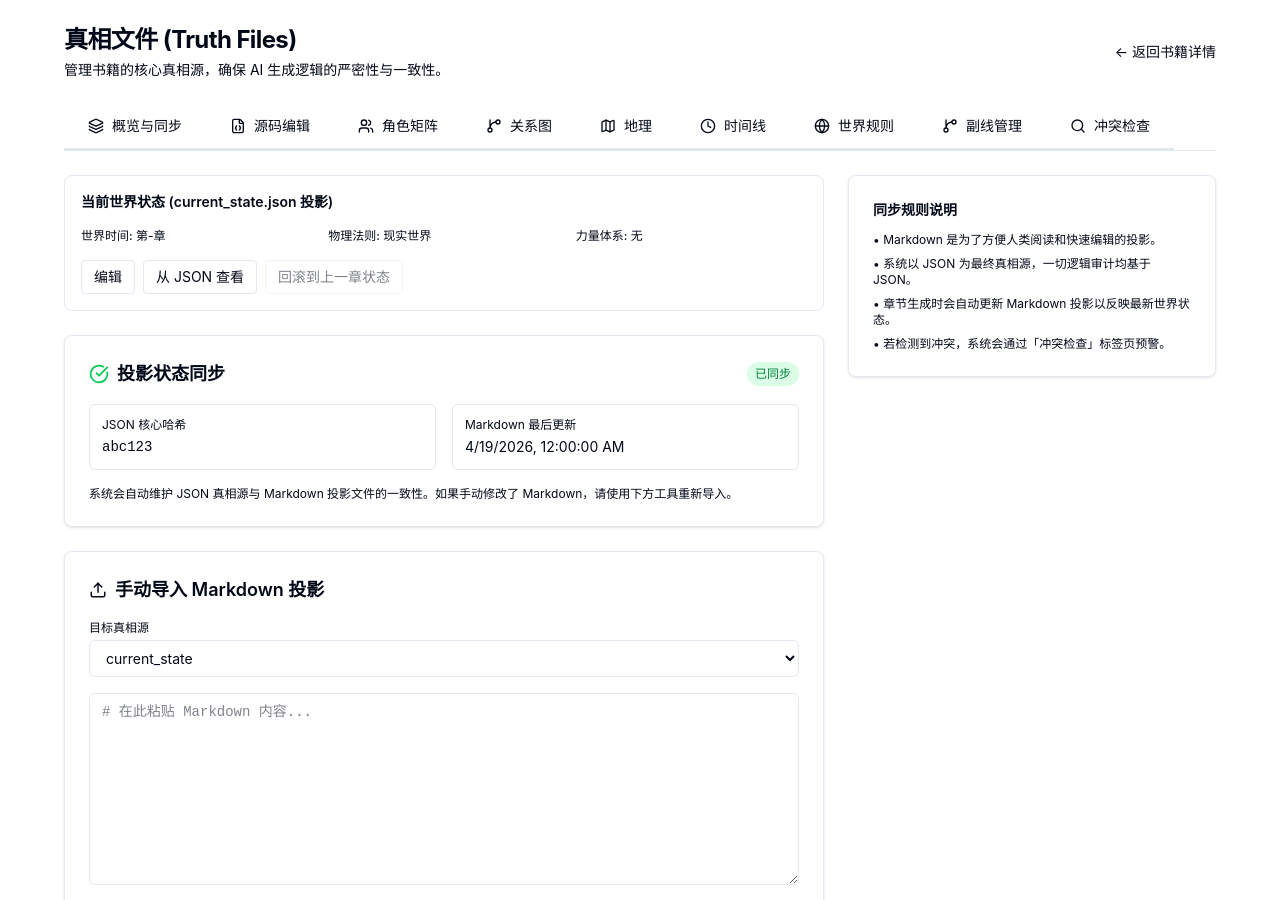
TruthFiles Page › opens file viewer when clicking a file
The width and height of the screenshot is (1280, 900).
Check: the heading "投影状态同步" is shown, box [117,360,225,388]
Note: Switch to JSON source editing tab to see file list
Click the button "源码编辑".
click(270, 127)  # box [206,104,334,150]
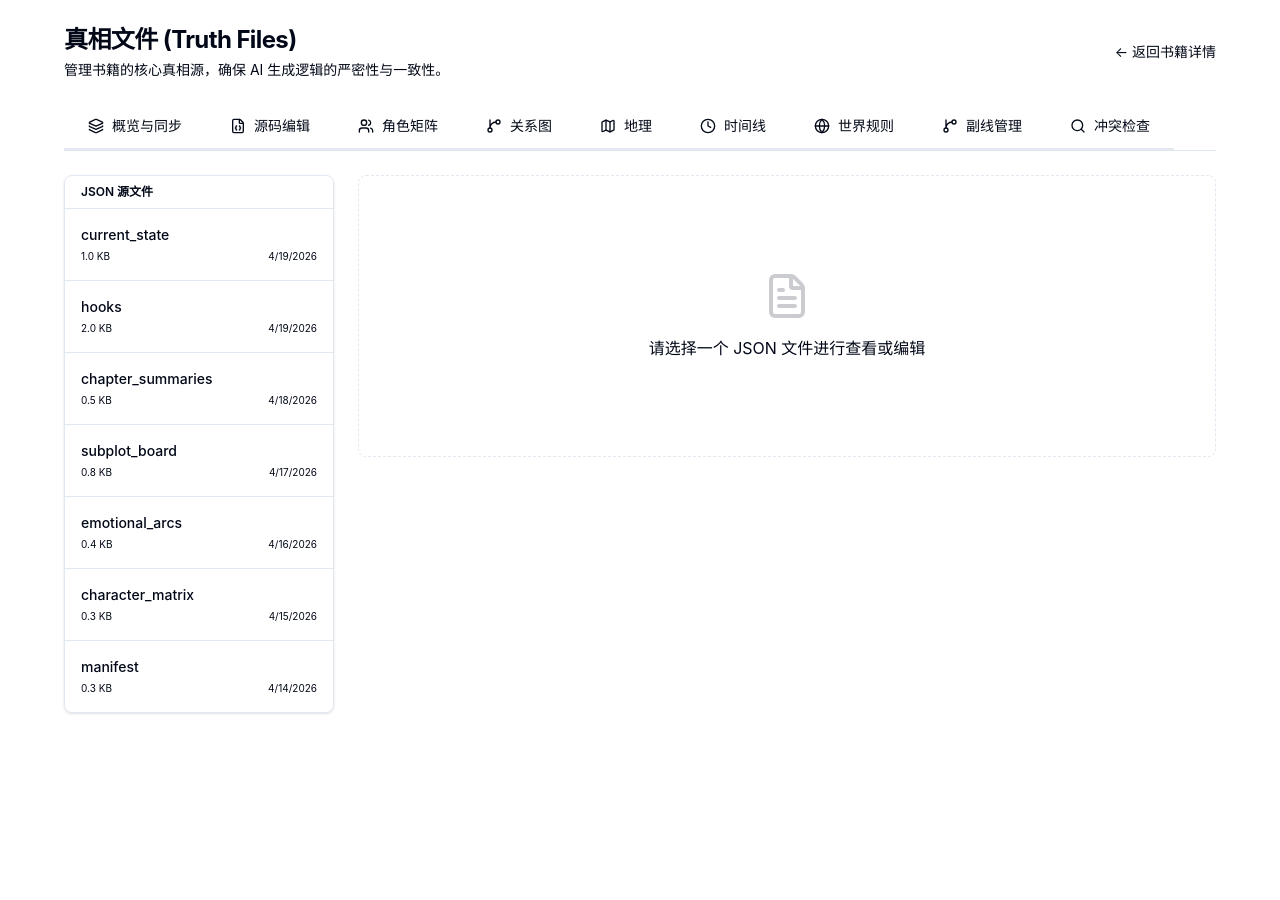
Click the button "current_state 1.0 KB 4/19/2026".
click(125, 234)  # box [65,209,333,281]
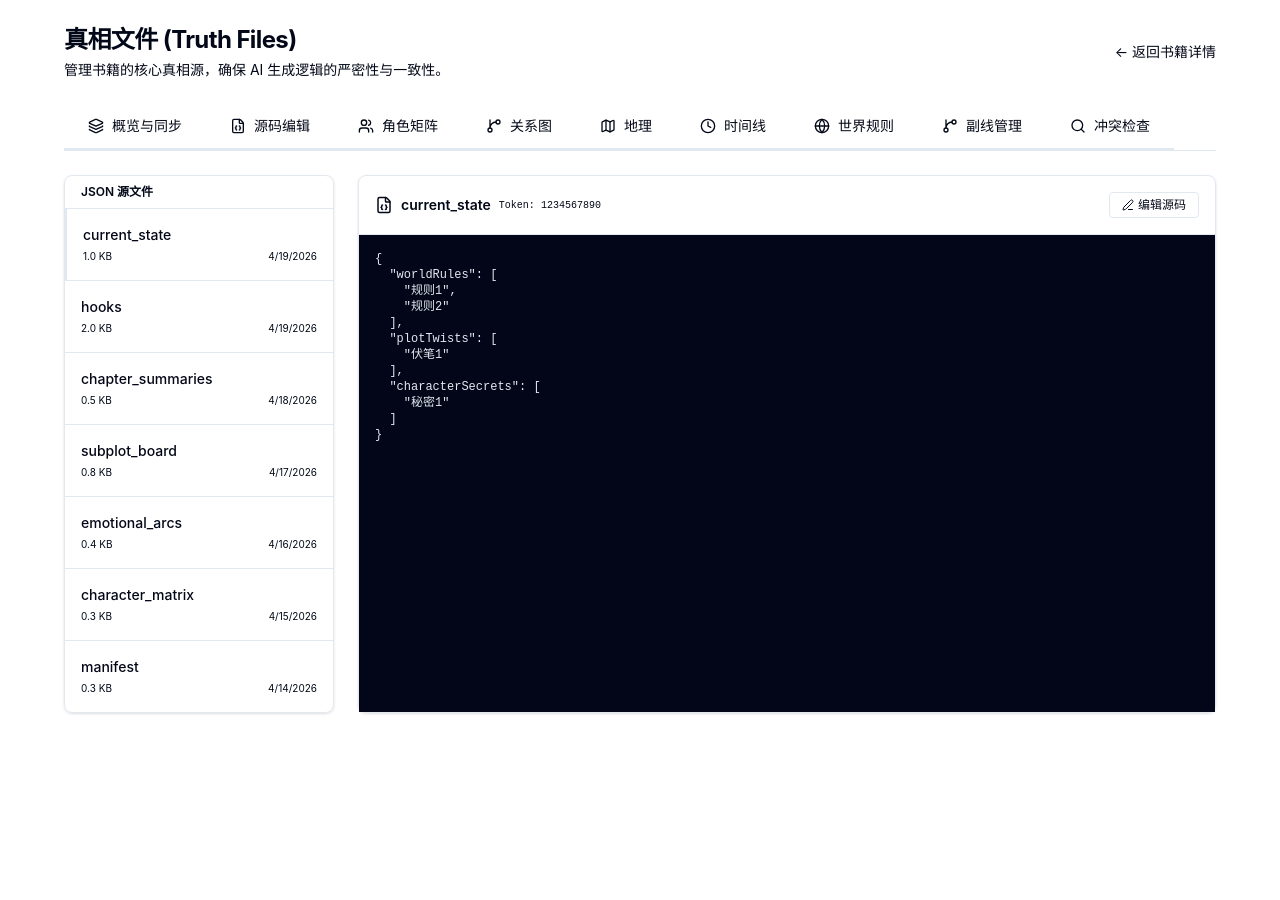
Check: the text "worldRules" is shown, box [375,252,541,442]
